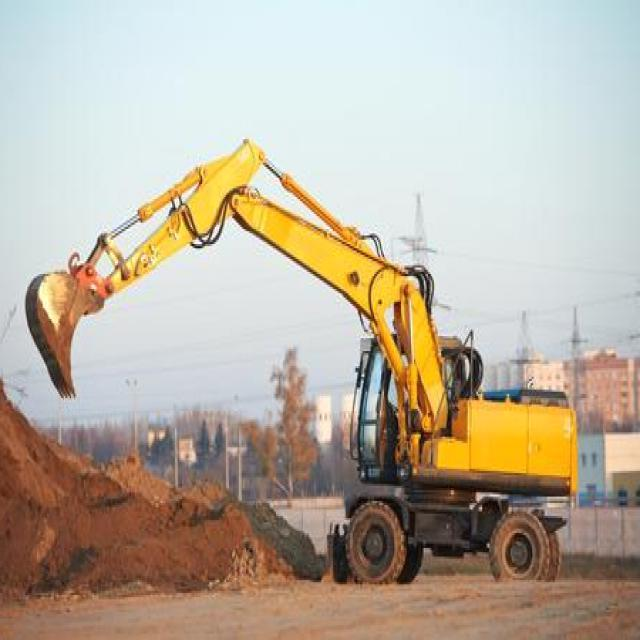machinery: (22, 136, 584, 586)
